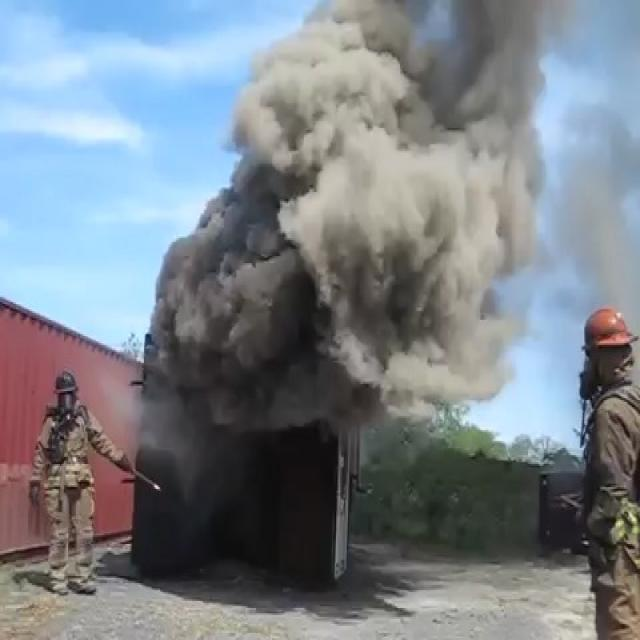Smoke: (190, 18, 552, 417)
